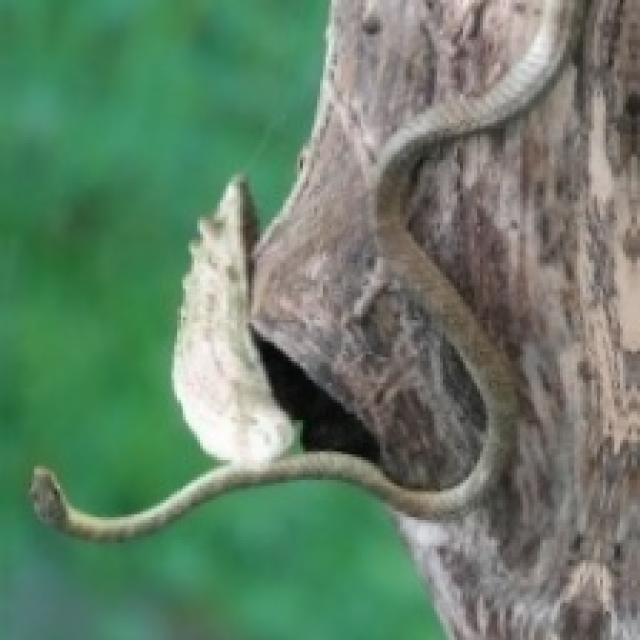paradise tree snake: (31, 0, 586, 537), (249, 326, 380, 466), (529, 431, 591, 489), (526, 391, 591, 429)
